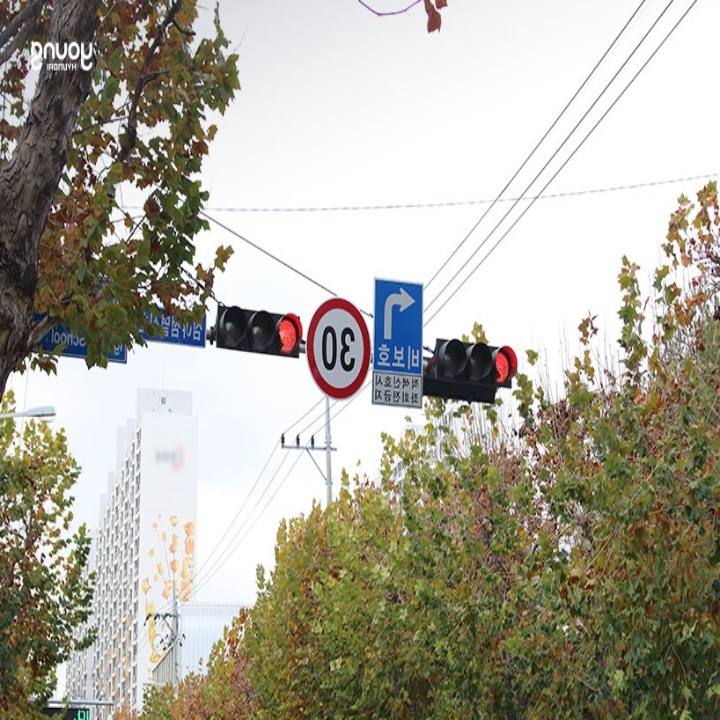right: (381, 283, 421, 347)
